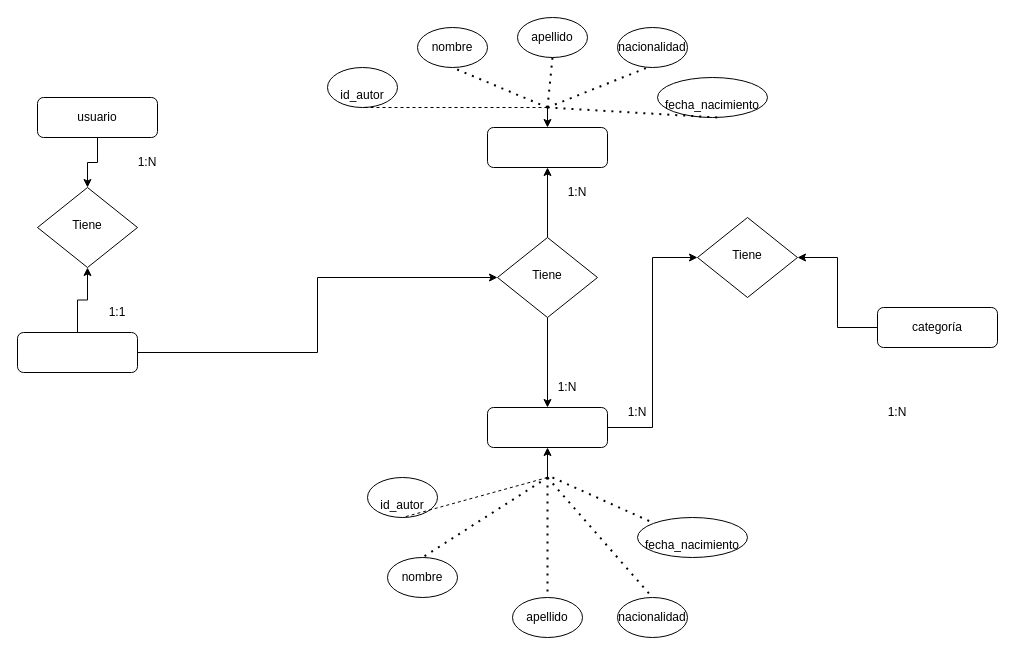
Some shapes in this 1015 by 655 pixel diagram are drawn without their labels. Here are the shapes that lost their labels. From the top down, the centre of each, then its label:
At pixel 547 147: "autor".
At pixel 77 352: "prestamo".
At pixel 547 427: "libro".
